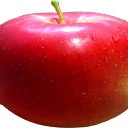apple: (1, 8, 128, 128)
